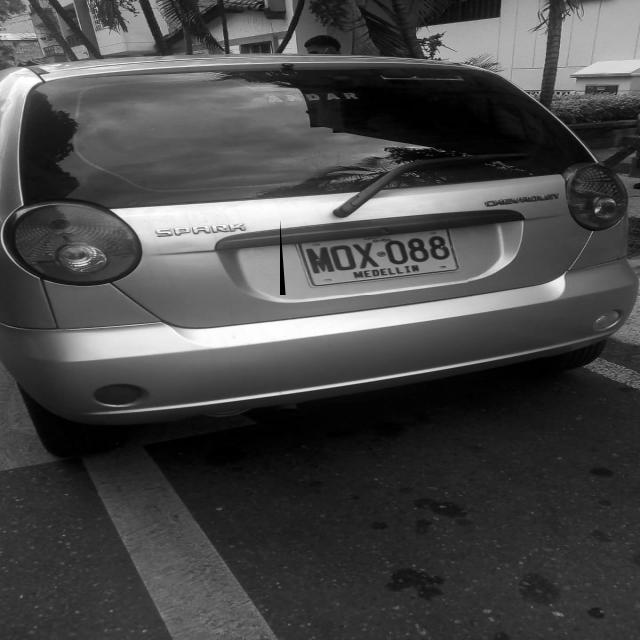plate: (281, 219, 468, 295)
